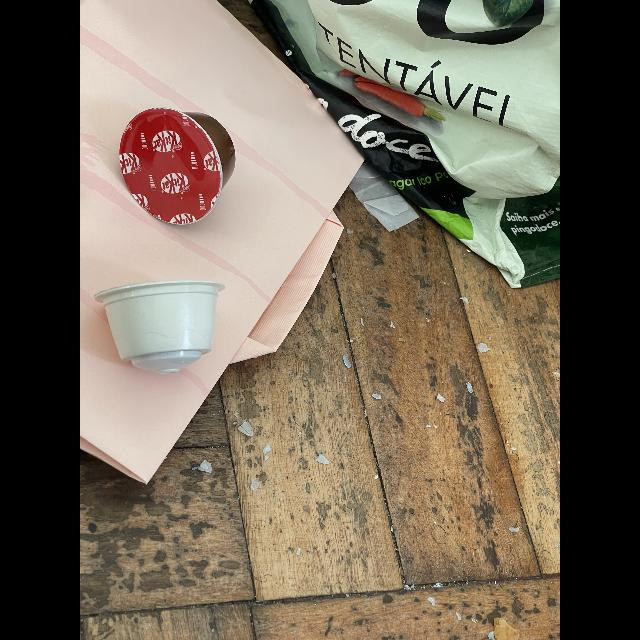intact_capsule: (80, 266, 236, 386), (116, 99, 247, 233)
